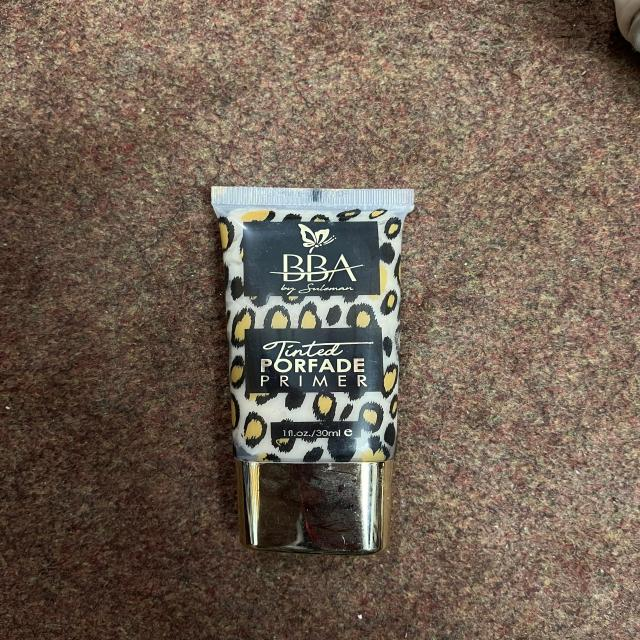primer: (203, 159, 438, 566)
